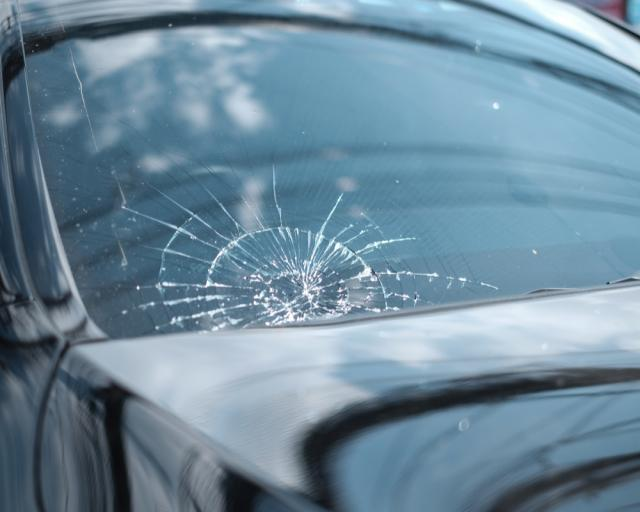glass shatter: (16, 0, 640, 337)
